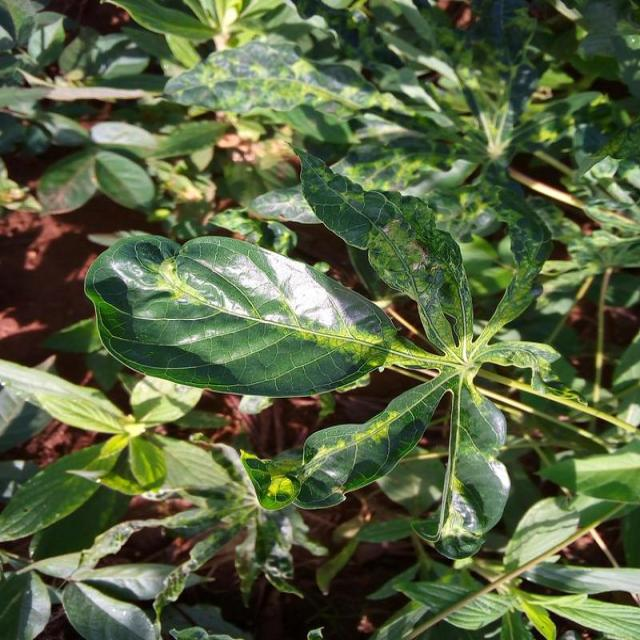cassava leaf: (82, 230, 398, 398)
